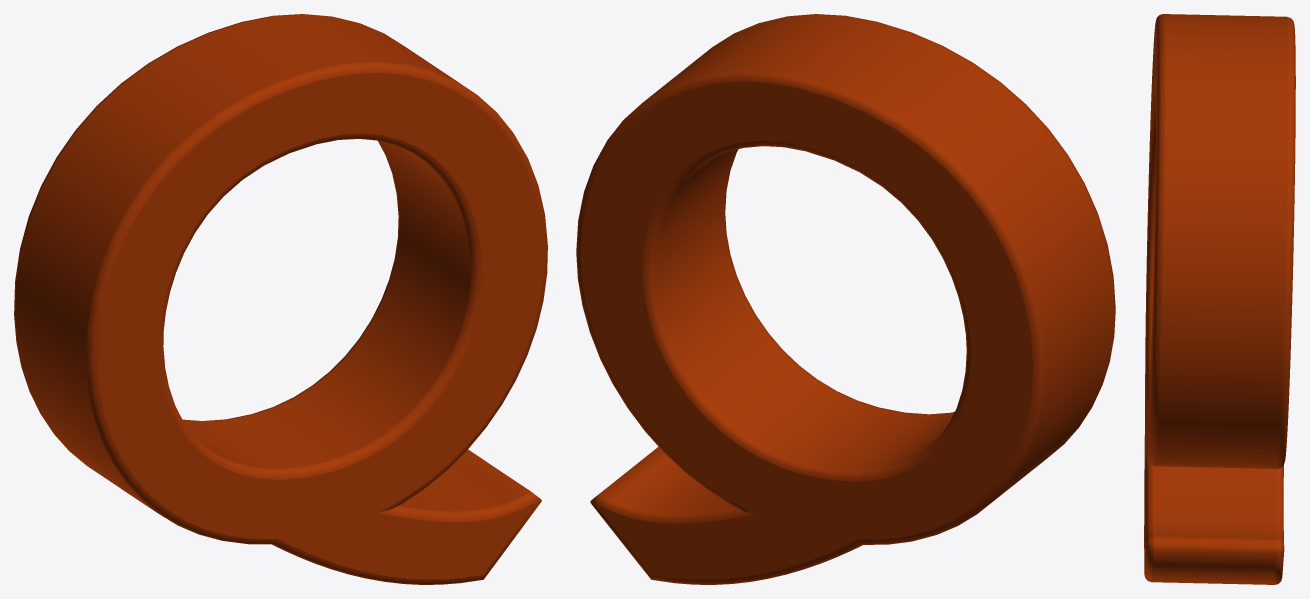
File: letters_Q.obj
The picture shows the model from 3 angles, left to right: view 1: azimuth 30°, elevation 25°; view 2: azimuth 150°, elevation 25°; view 3: azimuth 270°, elevation 25°; orthographic projection. The views are drawn at different scales.
Parts seen in each view (by area): view 1: Text; view 2: Text; view 3: Text.
Part boxes in pixels (x1,y1,x2,y2): Text: [14, 14, 547, 584]; Text: [576, 14, 1115, 584]; Text: [1144, 14, 1295, 584].
Size of the model in its own units: 0.7605 by 0.8565 by 0.2461.
